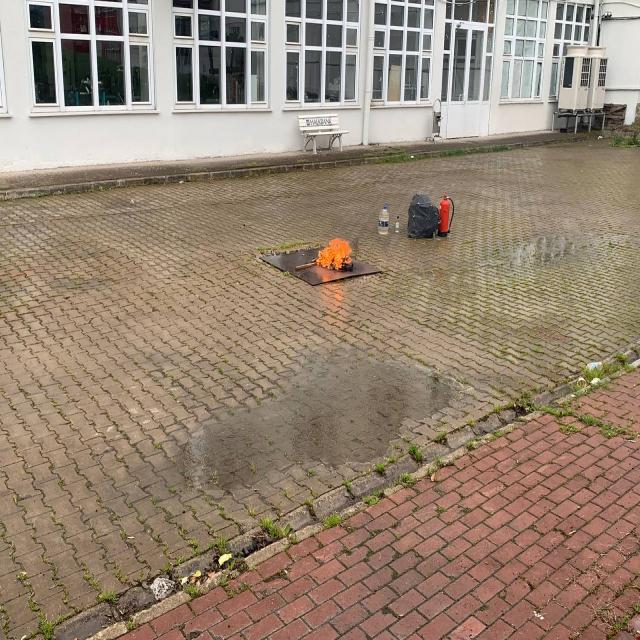fire: (309, 228, 365, 279)
